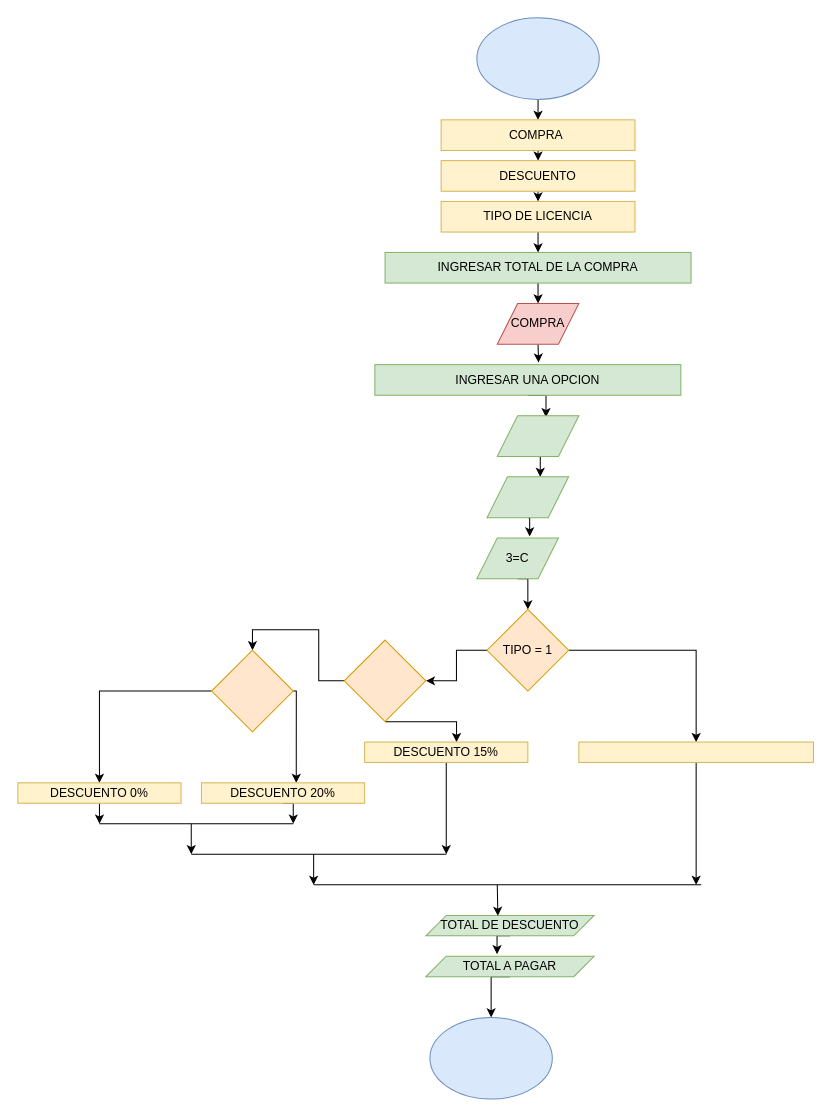
This 831x1117 diagram has some shape labels left out. The shapes that lost their labels are listed below. From the top down, each one's centre as x and y in pixels, then its label:
At (537,58): "INICIO".
At (537,435): "1=A".
At (527,497): "2=B".
At (252,690): "TIPO = 3".
At (384,680): "TIPO = 2".
At (695,751): "DESCUENTO 10%".
At (490,1057): "FIN".
